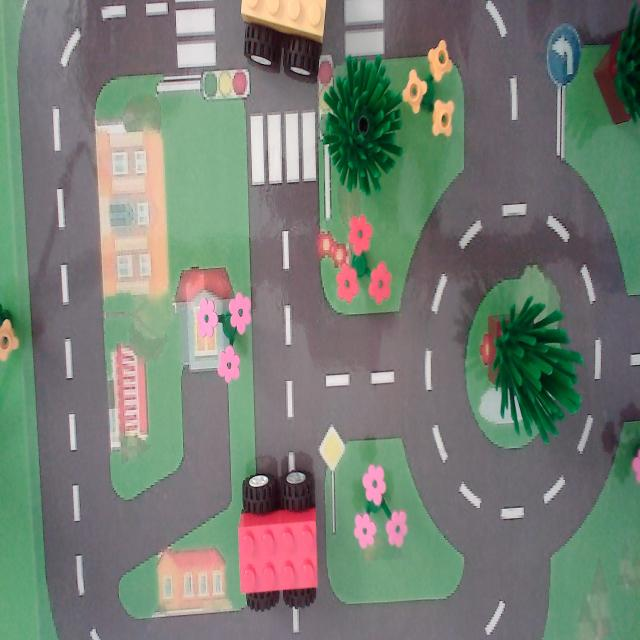Car: (229, 452, 334, 626), (236, 0, 332, 91)
Flower: (398, 28, 466, 171), (185, 281, 263, 400), (323, 202, 399, 323), (346, 448, 413, 568)
Tree: (478, 286, 589, 444), (318, 44, 414, 210), (595, 2, 640, 131)
